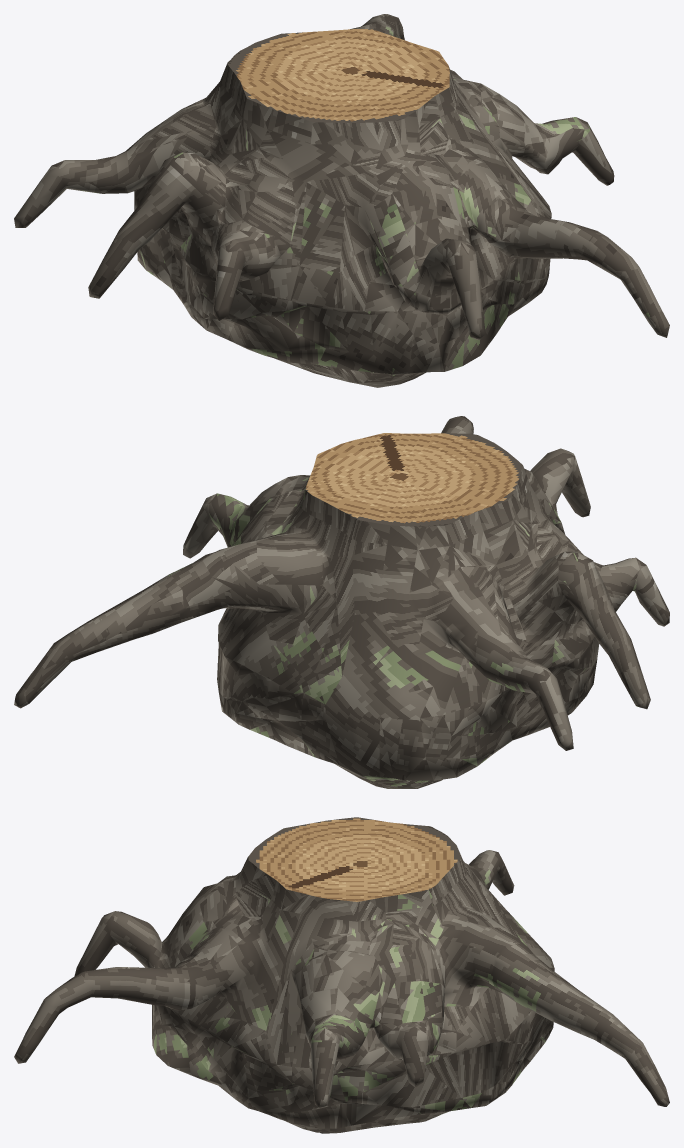
The model's file is environment_elm1_stump_v34.fbx.
3 renders of one model, top to bottom at view 1: azimuth 30°, elevation 25°; view 2: azimuth 150°, elevation 25°; view 3: azimuth 270°, elevation 25°, orthographic. The views are drawn at different scales.
Parts seen in each view (by area): view 1: environment_elm1_stump_v34; view 2: environment_elm1_stump_v34; view 3: environment_elm1_stump_v34.
Part boxes in pixels (bbox=[...]): environment_elm1_stump_v34: bbox=[14, 14, 669, 387]; environment_elm1_stump_v34: bbox=[14, 416, 669, 788]; environment_elm1_stump_v34: bbox=[14, 817, 669, 1133].
Bounding box in the file's own units: 496 × 246 × 629.
Materials: 2 (2 with a texture image).
